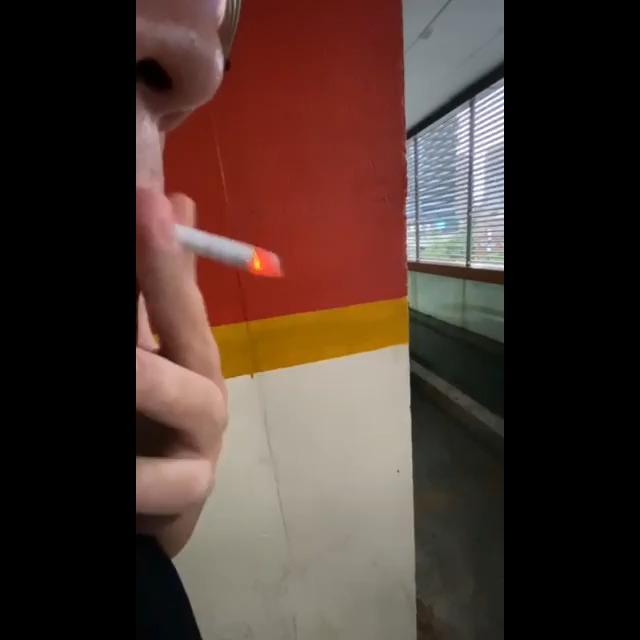rokok: (158, 206, 290, 296)
